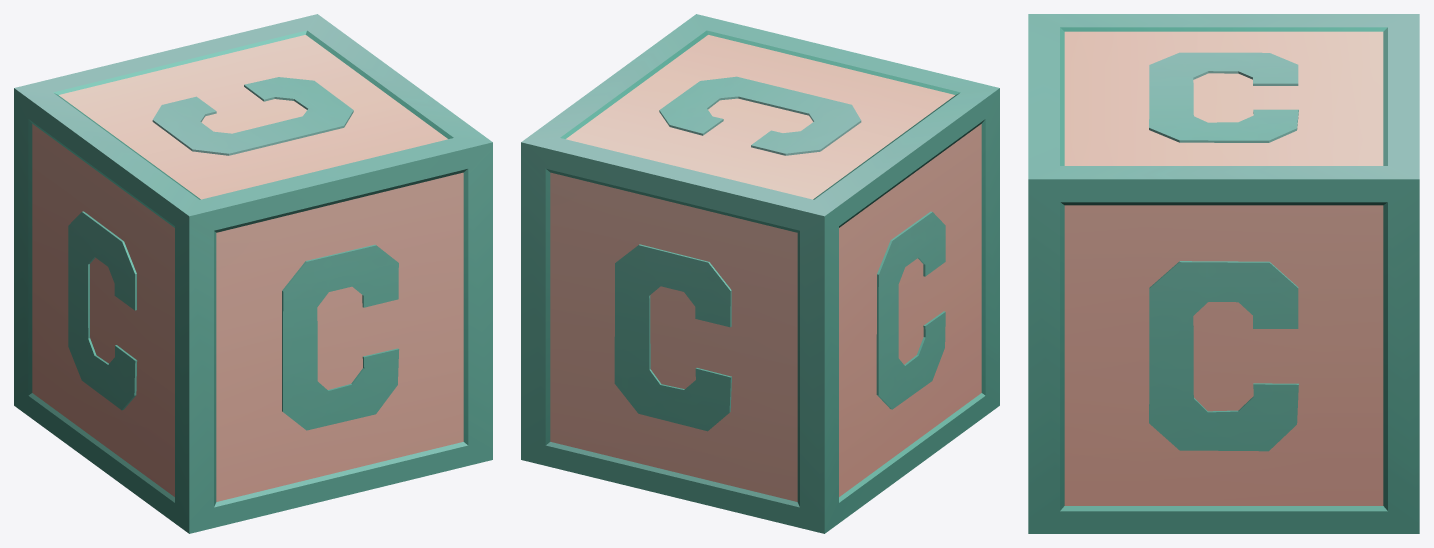
The model's file is Doll_OB_Blocks_003.FBX.
3 views of the same model, side by side, from view 1: azimuth 30°, elevation 25°; view 2: azimuth 150°, elevation 25°; view 3: azimuth 270°, elevation 25° (orthographic). The views are drawn at different scales.
Visible parts, largest first — view 1: Doll_OB_Blocks_003; view 2: Doll_OB_Blocks_003; view 3: Doll_OB_Blocks_003.
Boxes of the visible parts, x1,y1,x2,y2 form: Doll_OB_Blocks_003: (14,14,492,533); Doll_OB_Blocks_003: (521,14,999,533); Doll_OB_Blocks_003: (1028,14,1419,533).
Bounding box in the file's own units: 20.66 × 20.66 × 20.66.
